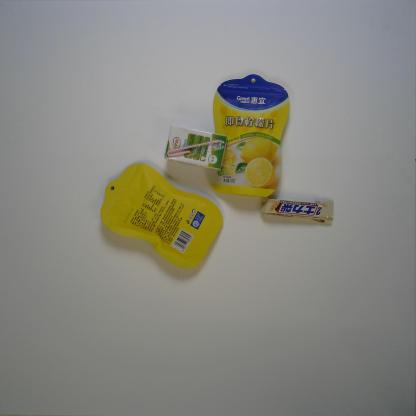Chocolate: (256, 194, 334, 228)
Dried Fruit: (99, 162, 224, 270), (204, 73, 291, 198)
Milk: (163, 123, 228, 171)
